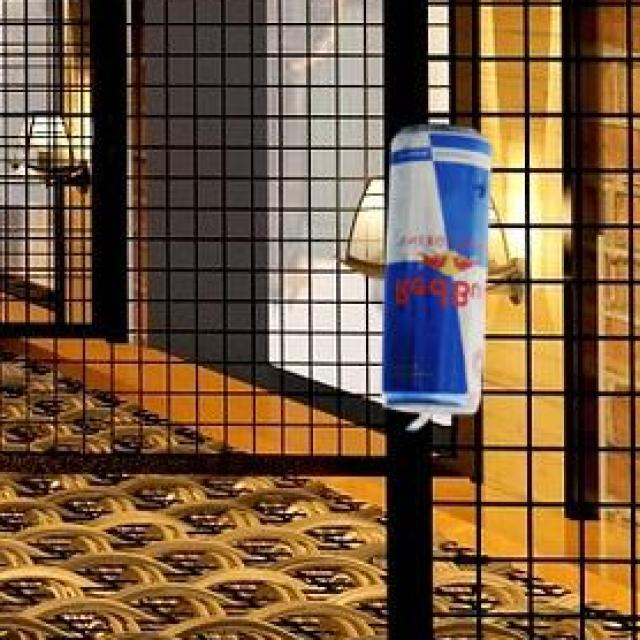logam: (379, 128, 489, 434)
